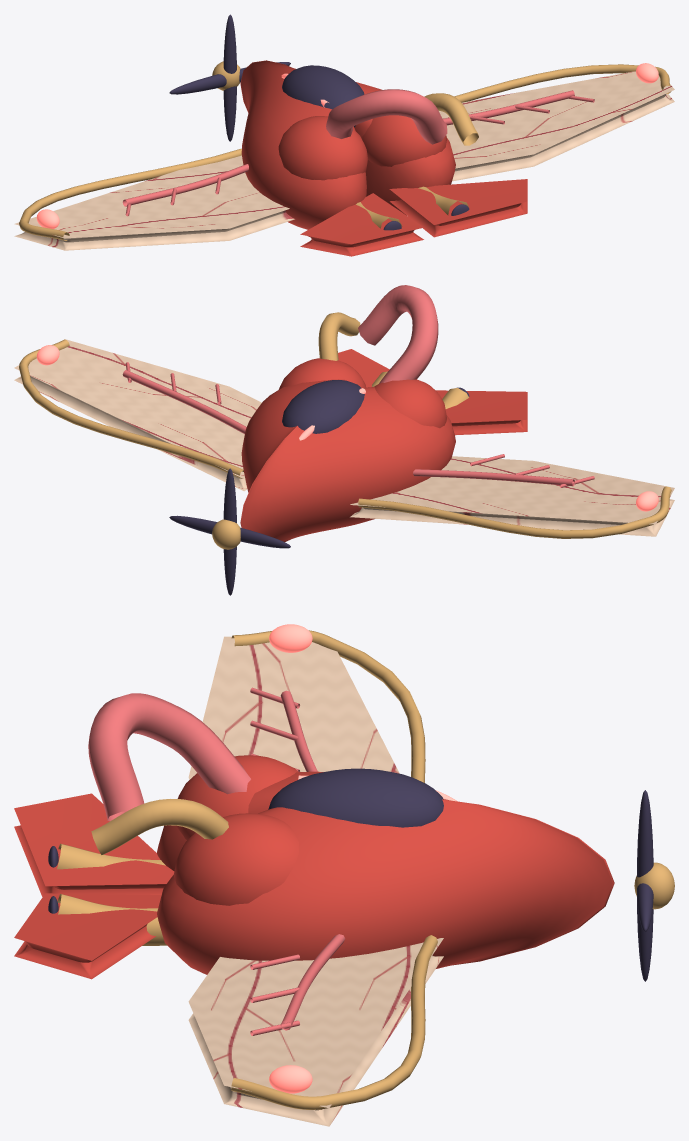
The model's file is cardiac-aorta.glb.
3 renders of one model, top to bottom at view 1: azimuth 30°, elevation 25°; view 2: azimuth 150°, elevation 25°; view 3: azimuth 270°, elevation 25°, orthographic. The views are drawn at different scales.
Parts seen in each view (by area): view 1: Left capillary wing, VentricleCore, Right capillary wing, Tail membrane.001, Tail membrane, Left atrium, Aortic arch, Right atrium, Arterial leading edge, Atrial canopy, Arterial leading edge.001, Valve propeller (+6 smaller); view 2: VentricleCore, Right capillary wing, Left capillary wing, Aortic arch, Arterial leading edge, Tail membrane, Atrial canopy, Arterial leading edge.001, Left atrium, Right atrium, Pulmonary return, Wing conduction vessel (+5 smaller); view 3: VentricleCore, Right capillary wing, Left capillary wing, Aortic arch, Tail membrane, Right atrium, Tail membrane.001, Atrial canopy, Arterial leading edge.001, Pulmonary return, Arterial leading edge, Left atrium (+8 smaller).
Part boxes in pixels (x1,y1,x2,y2): Left capillary wing: (14, 155, 294, 250); VentricleCore: (240, 60, 455, 229); Right capillary wing: (439, 71, 674, 181); Tail membrane.001: (389, 179, 527, 237); Tail membrane: (300, 193, 423, 256); Left atrium: (278, 116, 367, 180); Aortic arch: (326, 89, 447, 144); Right atrium: (362, 115, 446, 166); Arterial leading edge: (19, 148, 241, 240); Atrial canopy: (282, 65, 364, 127); Arterial leading edge.001: (454, 64, 671, 102); Valve propeller: (223, 14, 236, 141); VentricleCore: (240, 379, 455, 541); Right capillary wing: (14, 339, 261, 491); Left capillary wing: (350, 456, 674, 536); Aortic arch: (358, 285, 438, 384); Arterial leading edge: (358, 486, 671, 538); Tail membrane: (436, 390, 527, 435); Atrial canopy: (282, 380, 364, 433); Arterial leading edge.001: (19, 339, 243, 478); Left atrium: (374, 379, 446, 428); Right atrium: (278, 358, 365, 389); Pulmonary return: (318, 312, 360, 360); Wing conduction vessel: (413, 469, 574, 486); VentricleCore: (157, 771, 614, 974); Right capillary wing: (188, 938, 443, 1126); Left capillary wing: (188, 636, 399, 779); Aortic arch: (88, 693, 250, 821); Tail membrane: (14, 793, 174, 896); Right atrium: (173, 813, 298, 905); Tail membrane.001: (14, 893, 161, 979); Atrial canopy: (268, 768, 443, 827); Arterial leading edge.001: (231, 935, 437, 1109); Pulmonary return: (91, 799, 228, 854); Arterial leading edge: (231, 630, 425, 782); Left atrium: (176, 755, 298, 839).
Size of the model in its own units: 7.16 by 1.94 by 4.23.
6 materials, 1 textured.
